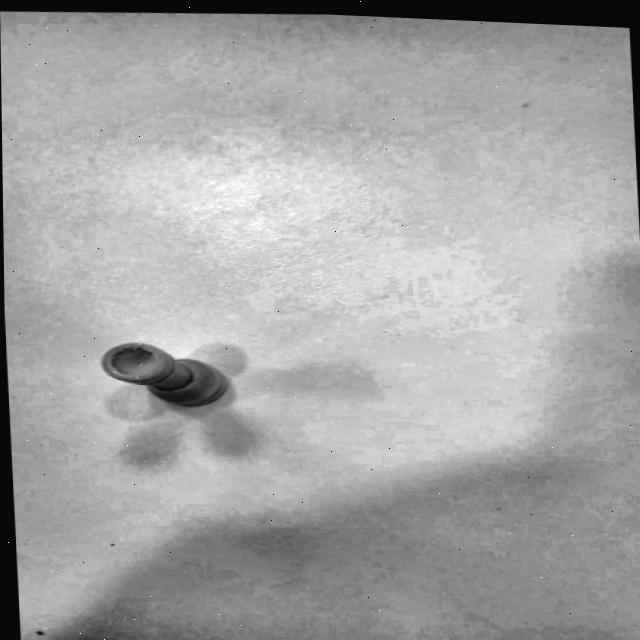white-rook: (80, 318, 285, 452)
